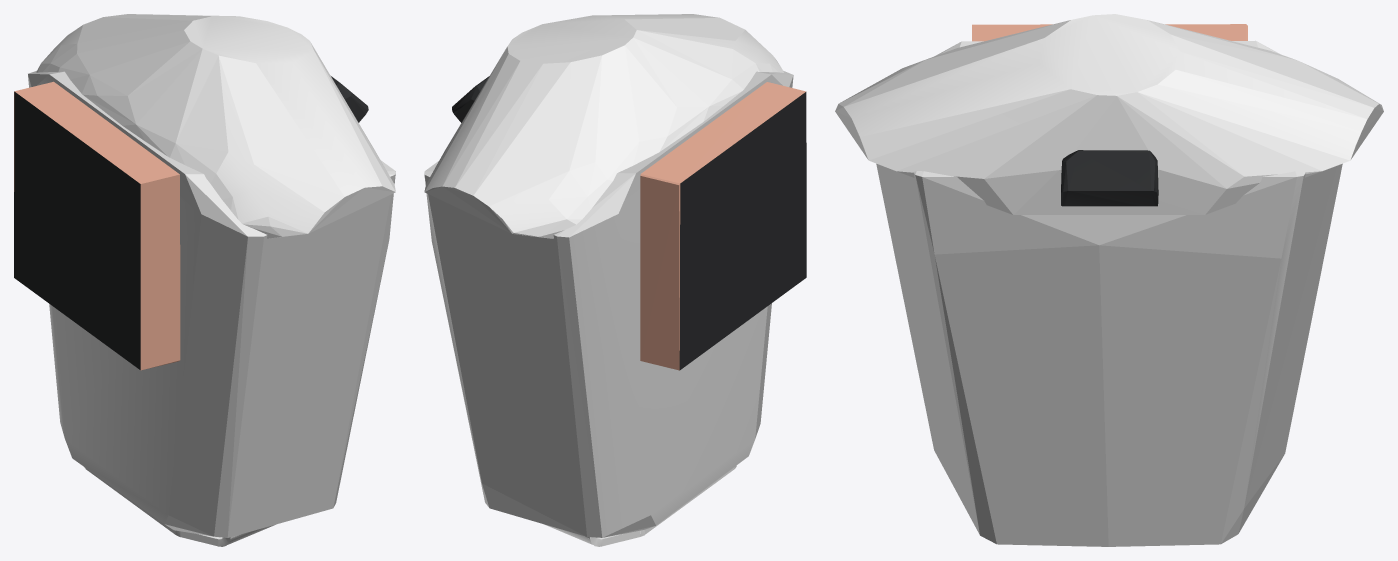
The model's file is torso_collider_no_cone.dae.
3 renders of one model, left to right at view 1: azimuth 30°, elevation 25°; view 2: azimuth 150°, elevation 25°; view 3: azimuth 270°, elevation 25°, orthographic. The views are drawn at different scales.
Visible parts, largest first — view 1: logo_main_triangle.001, top_shell, Enclosure Tile.008, Object.2190, 606-00021-SR_Back cover_PY074.001; view 2: logo_main_triangle.001, top_shell, Enclosure Tile.008, Object.2190, 606-00021-SR_Back cover_PY074.001; view 3: logo_main_triangle.001, top_shell, 606-00021-SR_Back cover_PY074.001, Enclosure Tile.008.
Part boxes in pixels (left/top/right/bottom): logo_main_triangle.001: left=28, top=70, right=395, bottom=537; top_shell: left=36, top=14, right=395, bottom=238; Enclosure Tile.008: left=14, top=81, right=180, bottom=370; Object.2190: left=84, top=467, right=275, bottom=546; 606-00021-SR_Back cover_PY074.001: left=331, top=76, right=368, bottom=122; logo_main_triangle.001: left=424, top=71, right=793, bottom=537; top_shell: left=424, top=14, right=784, bottom=238; Enclosure Tile.008: left=640, top=82, right=806, bottom=370; Object.2190: left=544, top=465, right=736, bottom=546; 606-00021-SR_Back cover_PY074.001: left=452, top=76, right=489, bottom=122; logo_main_triangle.001: left=876, top=40, right=1342, bottom=546; top_shell: left=835, top=14, right=1383, bottom=214; 606-00021-SR_Back cover_PY074.001: left=1061, top=150, right=1158, bottom=206; Enclosure Tile.008: left=972, top=24, right=1247, bottom=41.
Bounding box in the file's own units: 0.1971 × 0.3176 × 0.3079.
